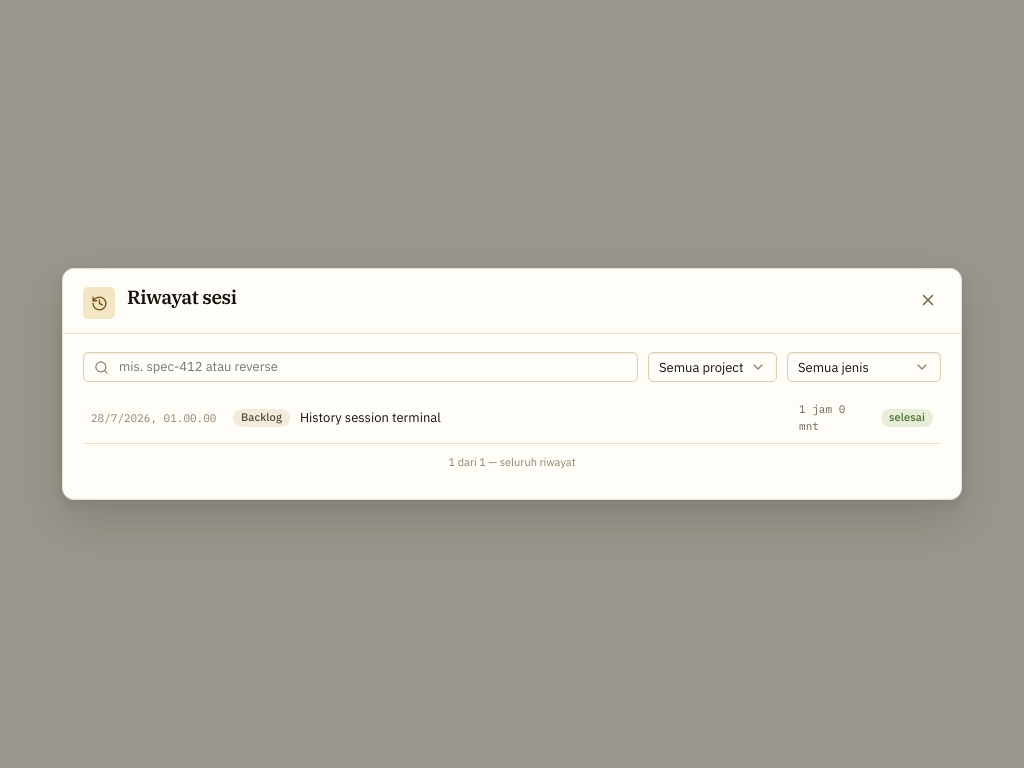
Test: SessionHistoryModal — detail (SPEC-362) › baris tanpa transkrip tak memanggil endpoint transkrip
Click the text "History session terminal": (370, 418) [300,409,441,426]
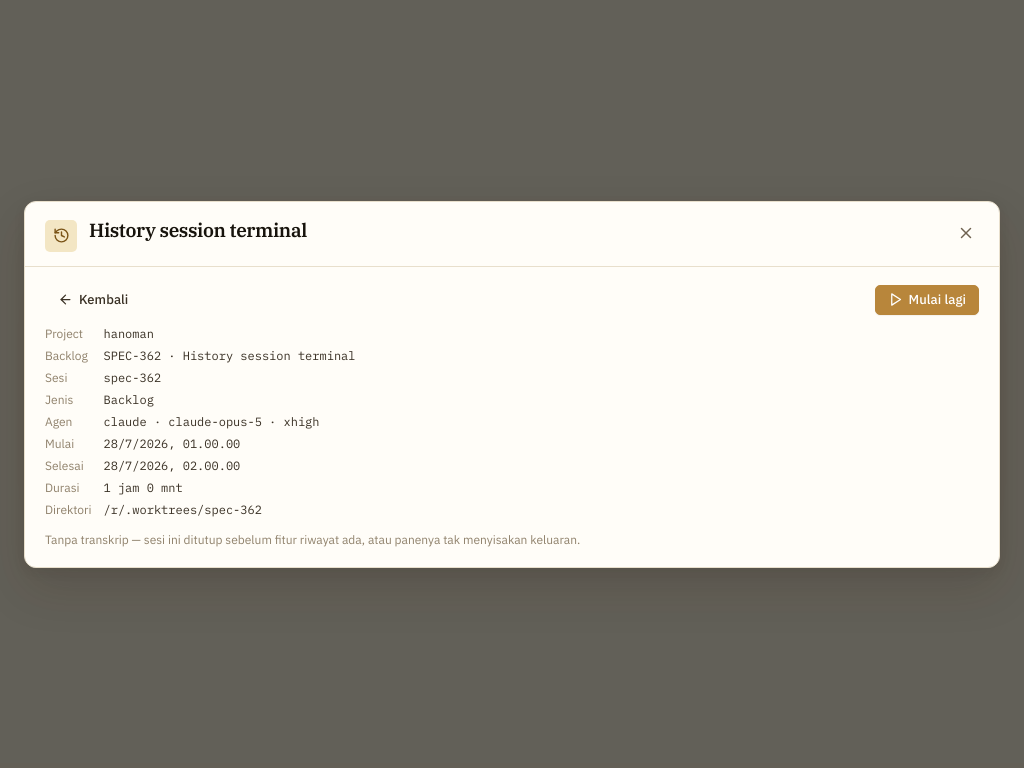
expect the text "Tanpa transkrip" is shown: met, box [45,532,580,546]
